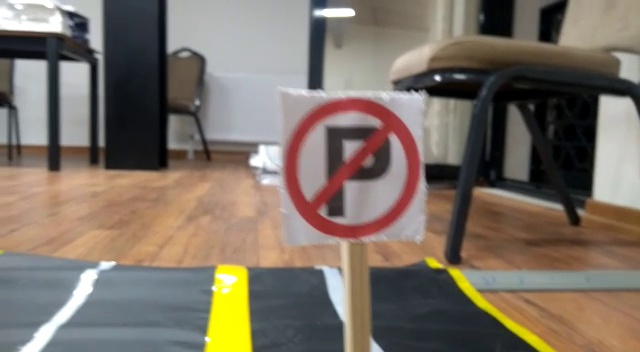park_yapilmaz: (281, 91, 421, 238)
